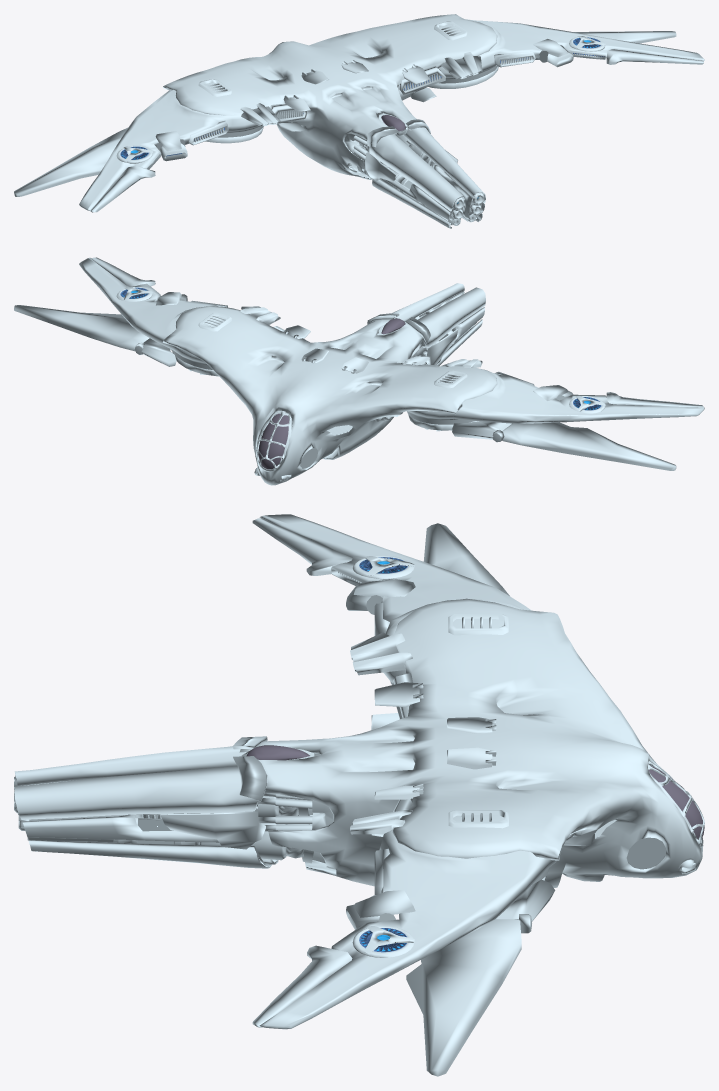
File: ship1.obj
3 renders of one model, top to bottom at view 1: azimuth 30°, elevation 25°; view 2: azimuth 150°, elevation 25°; view 3: azimuth 270°, elevation 25°, orthographic. The views are drawn at different scales.
Parts seen in each view (by area): view 1: mainBody, lWing, rWing, lTailpipe, rTailpipe, lWinglet, rWinglet, rEngineFlap, lEngineFlap, lTailpipeSide, mainBody001, lTailpipeJoints (+1 smaller); view 2: mainBody, lWing, rWing, lWinglet, rWinglet, lTailpipe, rTailpipe, lWingletBase, rWingletBase, lTailpipeSide, rEngineFlap; view 3: mainBody, rWing, rTailpipe, lWing, rWinglet, lTailpipe, rTailpipe rTailpipeSide, lWinglet, paint rTailpipe, lEngineFlap, rTailpipe rTailpipeJoints, rWingletBase (+4 smaller).
Boxes of the visible parts, bbox=[...] form: mainBody: bbox=[163, 14, 497, 179]; lWing: bbox=[79, 89, 263, 212]; rWing: bbox=[428, 19, 704, 88]; lTailpipe: bbox=[349, 134, 464, 228]; rTailpipe: bbox=[383, 113, 485, 222]; lWinglet: bbox=[14, 127, 127, 196]; rWinglet: bbox=[535, 31, 676, 59]; rEngineFlap: bbox=[441, 52, 482, 79]; lEngineFlap: bbox=[240, 103, 280, 126]; lTailpipeSide: bbox=[363, 152, 396, 181]; mainBody001: bbox=[398, 65, 445, 94]; lTailpipeJoints: bbox=[344, 133, 375, 159]; mainBody: bbox=[162, 306, 497, 485]; lWing: bbox=[407, 369, 704, 424]; rWing: bbox=[79, 257, 234, 376]; lWinglet: bbox=[502, 422, 676, 470]; rWinglet: bbox=[14, 305, 149, 351]; lTailpipe: bbox=[418, 287, 485, 365]; rTailpipe: bbox=[392, 283, 464, 321]; lWingletBase: bbox=[452, 421, 511, 442]; rWingletBase: bbox=[134, 338, 176, 366]; lTailpipeSide: bbox=[425, 329, 457, 365]; rEngineFlap: bbox=[240, 306, 280, 324]; mainBody: bbox=[233, 598, 704, 887]; rWing: bbox=[252, 830, 556, 1029]; rTailpipe: bbox=[14, 766, 335, 869]; lWing: bbox=[252, 514, 531, 684]; rWinglet: bbox=[406, 919, 521, 1076]; lTailpipe: bbox=[14, 746, 321, 818]; rTailpipe rTailpipeSide: bbox=[160, 811, 265, 849]; lWinglet: bbox=[423, 523, 509, 595]; paint rTailpipe: bbox=[113, 796, 308, 860]; lEngineFlap: bbox=[350, 632, 412, 675]; rTailpipe rTailpipeJoints: bbox=[256, 793, 333, 831]; rWingletBase: bbox=[495, 879, 555, 933].
Size of the model in its own units: 42.9 by 5.77 by 22.91.
